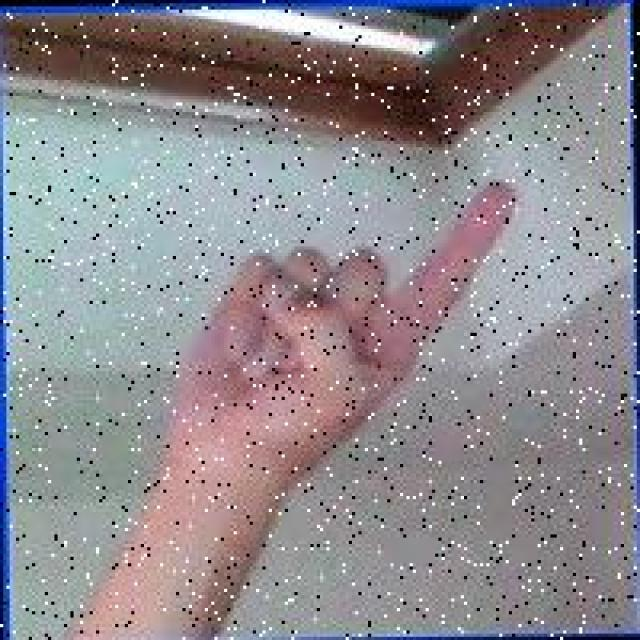Z: (182, 174, 528, 469)
